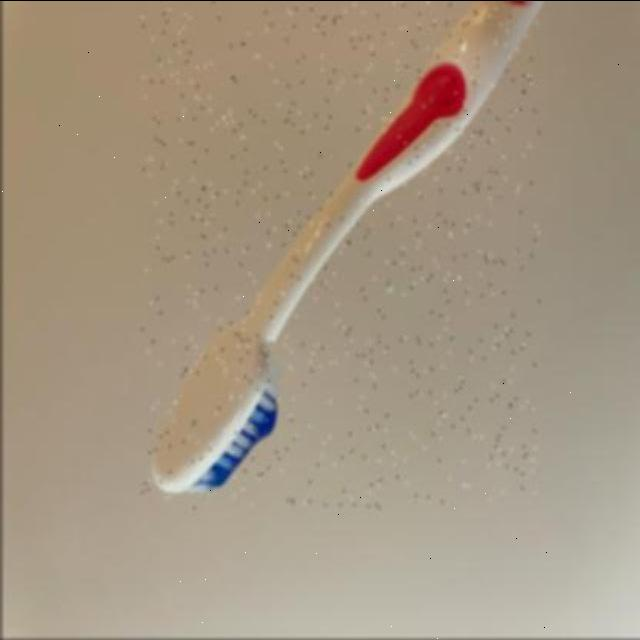toothbrush: (140, 1, 538, 510)
